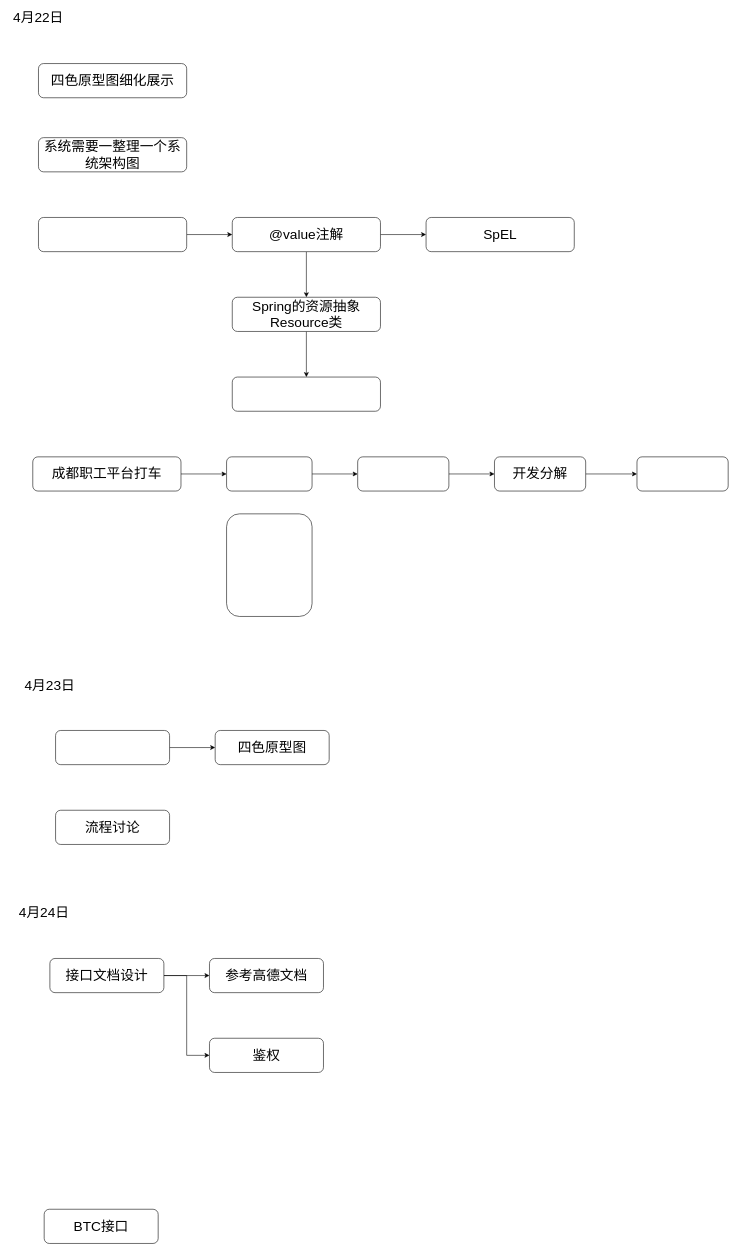
The diagram is 738 pixels wide and 1253 high, and some of its shapes have lost their labels. The shapes that lost their labels are listed below. From the top down, each one's box as (x1, y1, x2, y2) in pixels, then its label:
(38, 217, 187, 252): dubbo服务四色原型图整理
(232, 376, 380, 411): java的Resource类
(226, 456, 312, 491): 需求确认
(357, 456, 449, 491): 架构设计
(636, 456, 728, 491): 开发时间节点
(55, 730, 170, 765): 外部平台下单
